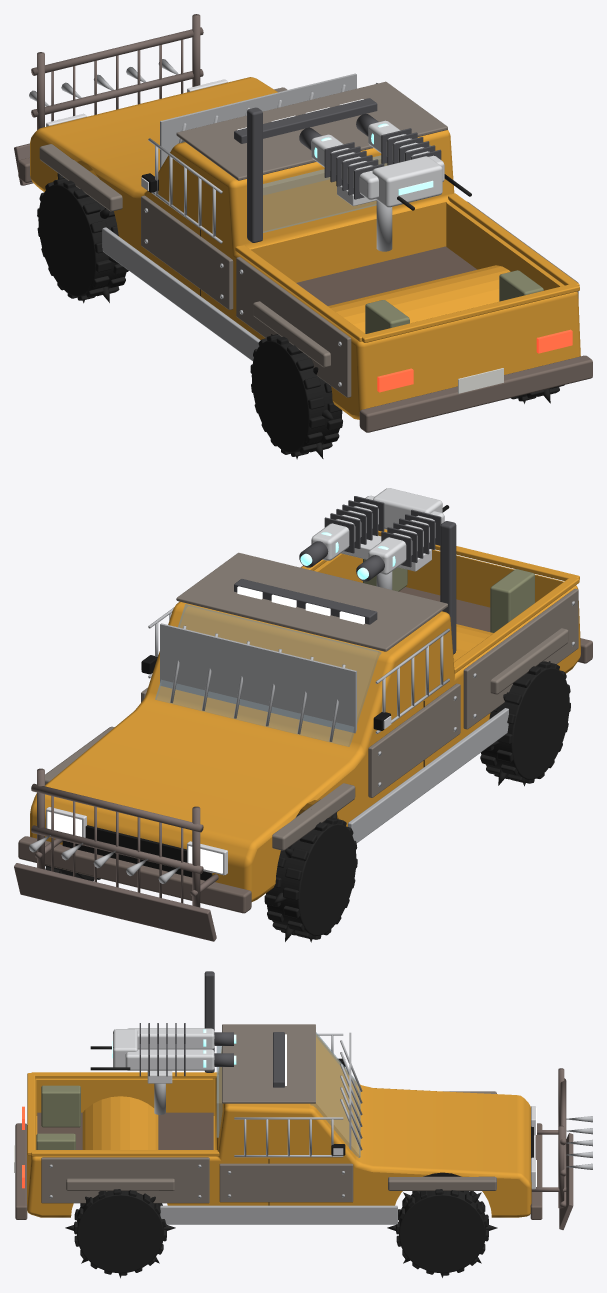
The model's file is pickup3.glb.
The picture shows the model from 3 angles, top to bottom: view 1: azimuth 30°, elevation 25°; view 2: azimuth 150°, elevation 25°; view 3: azimuth 270°, elevation 25°; orthographic projection. The views are drawn at different scales.
Visible parts, largest first — view 1: body, roof_plate, tire.001, tire, bumper_r, plate.003, plate.001, bed_floor, side_blade, rear_glass, ws_cage, capacitor (+20 smaller); view 2: body, ws_cage, roof_plate, windshield, tire, tire.001, plow, plate.003, plate.001, bumper_f, side_blade, grille (+17 smaller); view 3: body, tire.002, tire.003, roof_plate, plate.004, plate.002, side_blade.001, windshield, bed_floor, housing.001, jerrycan, housing (+14 smaller).
Boxes of the visible parts, x1,y1,x2,y2 form: body: (30, 77, 580, 419); roof_plate: (176, 81, 447, 180); tire.001: (250, 334, 342, 459); tire: (37, 173, 128, 303); bumper_r: (359, 355, 592, 432); plate.003: (236, 257, 351, 397); plate.001: (141, 195, 233, 309); bed_floor: (296, 246, 476, 305); side_blade: (102, 227, 260, 360); rear_glass: (263, 144, 430, 232); ws_cage: (160, 73, 356, 168); capacitor: (372, 156, 442, 207); body: (30, 549, 580, 901); ws_cage: (160, 623, 356, 733); roof_plate: (176, 552, 447, 651); windshield: (155, 604, 381, 746); tire: (264, 812, 357, 942); tire.001: (480, 661, 570, 786); plow: (14, 863, 216, 941); plate.003: (463, 588, 578, 729); plate.001: (368, 683, 460, 797); bumper_f: (18, 836, 251, 913); side_blade: (348, 708, 508, 842); grille: (62, 825, 212, 880); body: (27, 1034, 531, 1217); tire.002: (387, 1189, 497, 1277); tire.003: (65, 1189, 175, 1278); roof_plate: (222, 1024, 315, 1103); plate.004: (41, 1157, 209, 1203); plate.002: (219, 1163, 353, 1202); side_blade.001: (160, 1205, 397, 1224); windshield: (310, 1032, 360, 1157); bed_floor: (37, 1112, 213, 1149); housing.001: (125, 1049, 214, 1070); jerrycan: (41, 1085, 80, 1127); housing: (127, 1028, 214, 1049).
Bounding box in the file's own units: 2.3 × 2.54 × 5.85.
